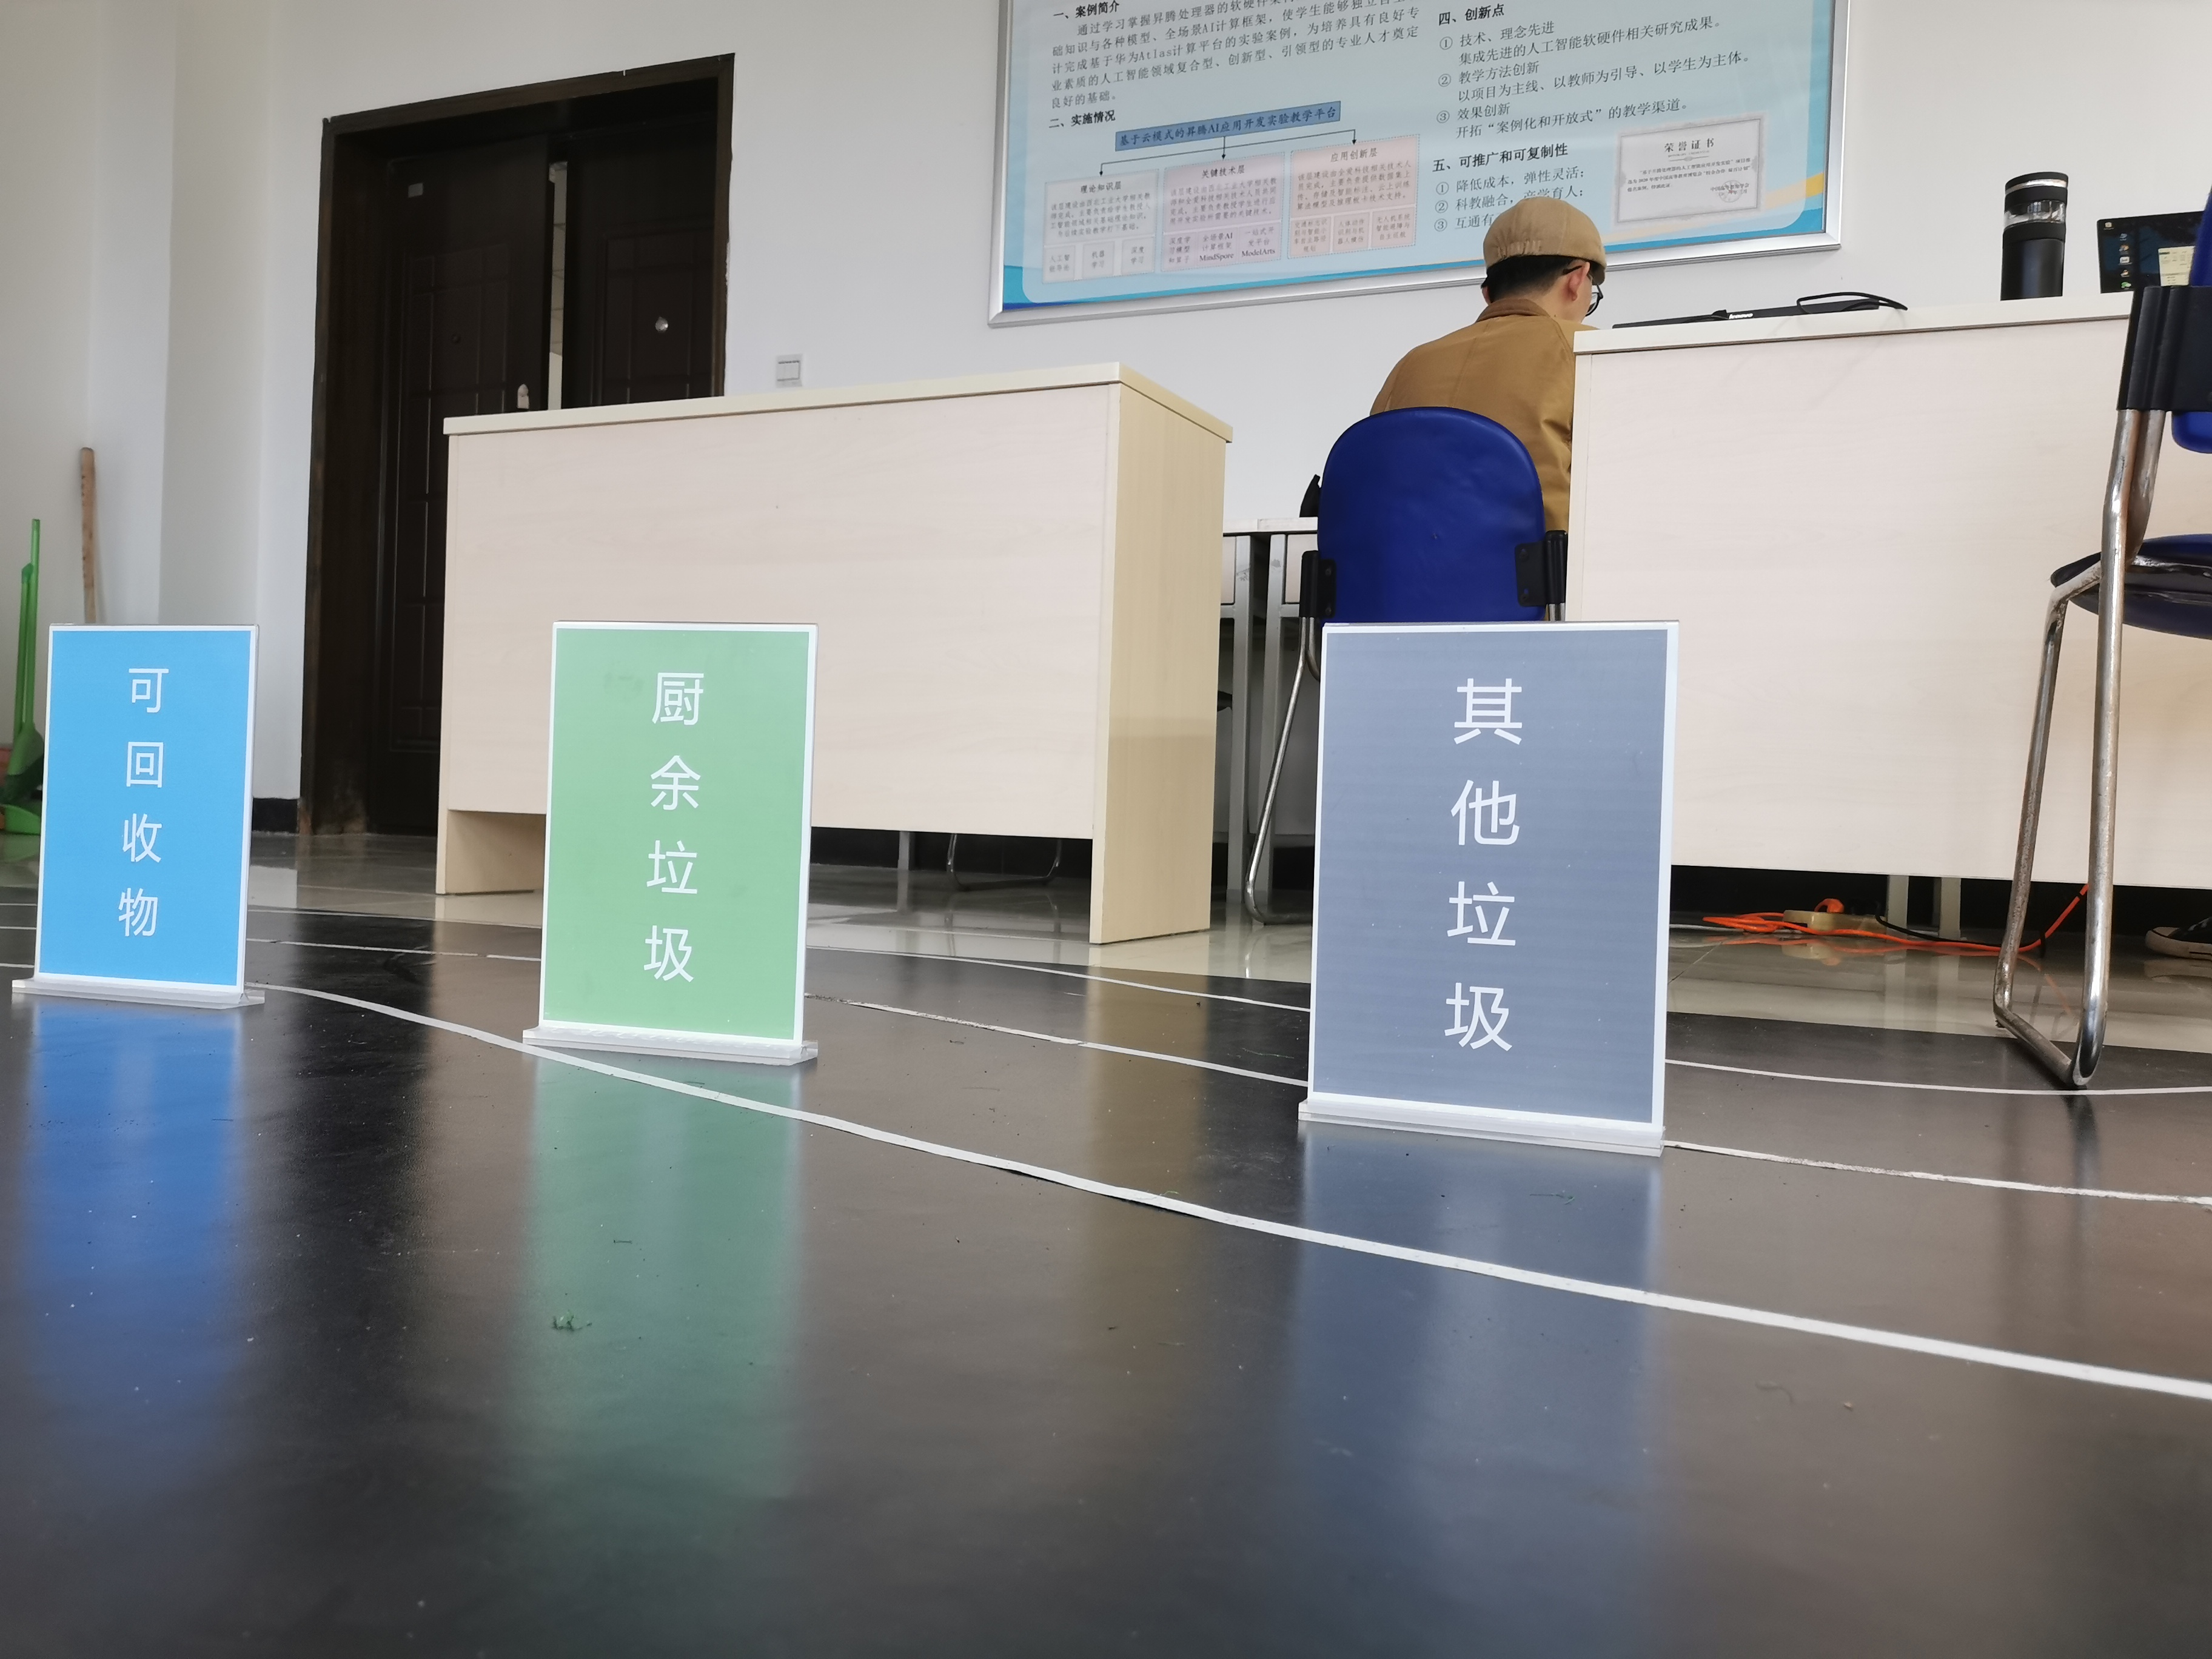black: (1327, 640, 1653, 1091)
blue: (57, 638, 233, 972)
green: (557, 640, 792, 1016)
